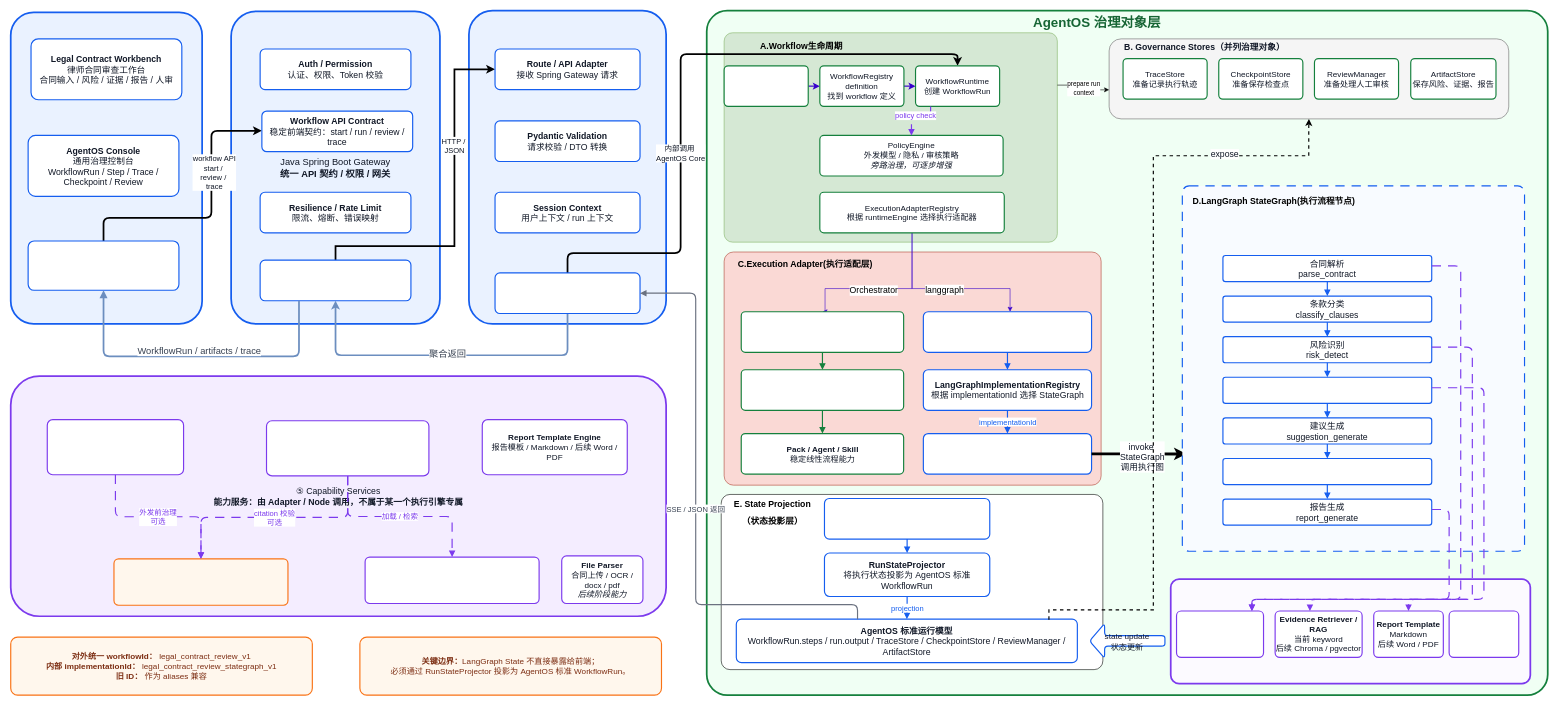
The diagram is 1558 pixels wide and 706 high, and some of its shapes have lost their labels. The centre of each missing label's shape, as x and y in pixels:
File Parser 合同文件解析 后续能力: point (1483, 634)
HTTP Client + Response Aggregator 转发 Python Agent，聚合 SSE / JSON 响应: point (335, 280)
LangGraph State 图执行状态 / thread_id = run_id: point (907, 518)
LangGraphAdapter runtimeEngine = langgraph: point (1007, 332)
Legal Evidence Retriever / RAG 当前：本地知识库 + keyword 后续：Chroma / pgvector / rerank: point (347, 448)
Legal Knowledge Base agent/knowledge/legal 法律资料 / 规则 / 模板: point (451, 580)
legal_contract_review_stategraph_v1 内部实现 implementationId: point (1007, 453)
LLM Gateway mock / openai-compatible DeepSeek / Qwen: point (1220, 634)
LLM Gateway mock / openai-compatible DeepSeek / Qwen 等模型适配: point (115, 447)
Native Orchestrator YAML steps + Pack / Agent / Skill: point (822, 390)
NativeWorkflowAdapter runtimeEngine = native Core Runtime 线性流程: point (822, 332)
Privacy Guard / Citation Verifier 依据校验 后续治理能力: point (200, 582)
SSE / JSON Response 流式 HTTP / JSON 结果返回: point (567, 293)
TaskManager 创建任务: point (766, 86)
workflowApi 统一调用 start / run / review / trace / checkpoint / metrics: point (103, 265)
人工审核 human_review: point (1327, 471)
证据检索 legal_evidence_match: point (1327, 390)
